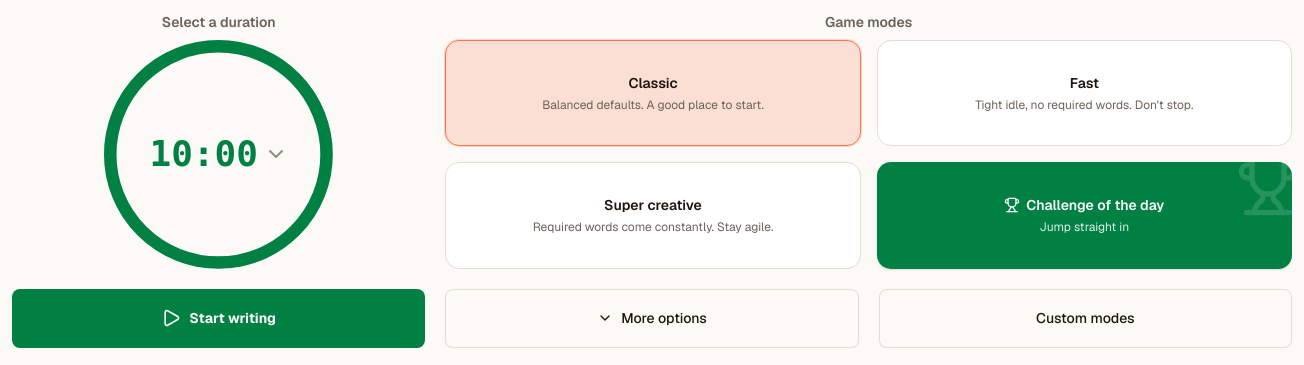
Test: SessionLauncher › prompts anonymous users to sign in for custom modes
Click the button "Custom modes" at [1085, 318], box [879, 289, 1292, 348]
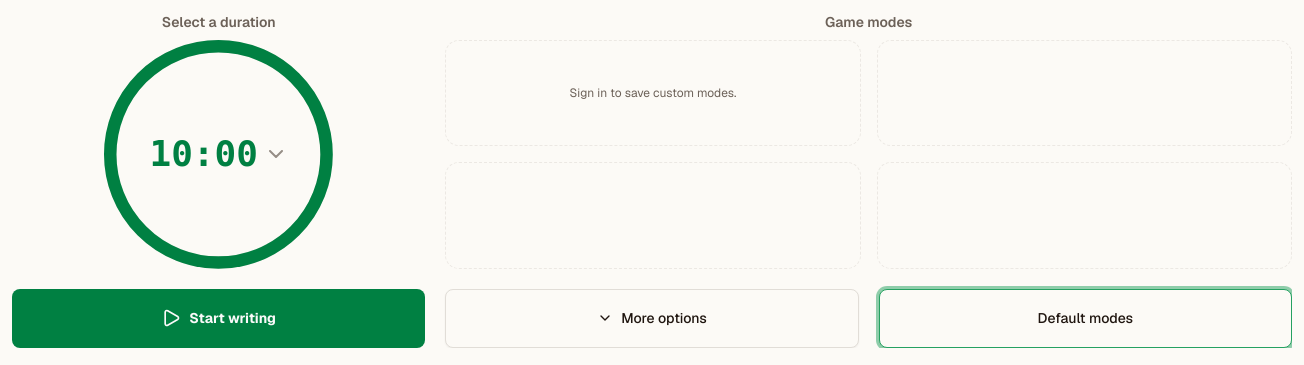
Check: the text "Sign in to save custom modes." is shown, box [570, 85, 736, 101]
